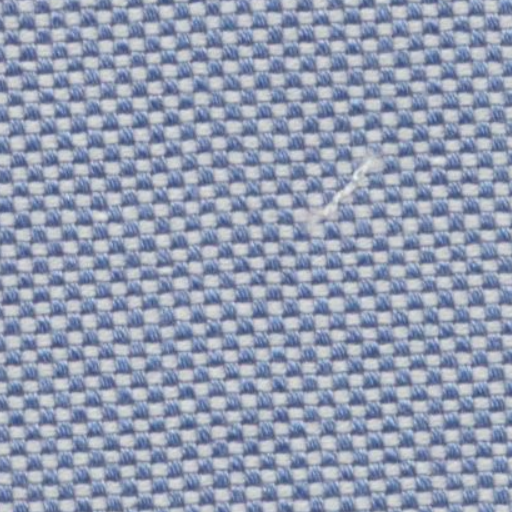DuanSha: (298, 146, 388, 230)
